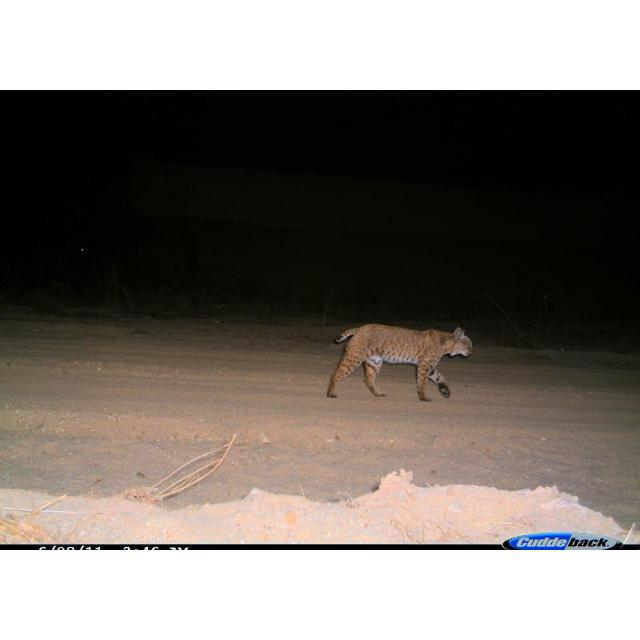animals: (323, 321, 473, 404)
